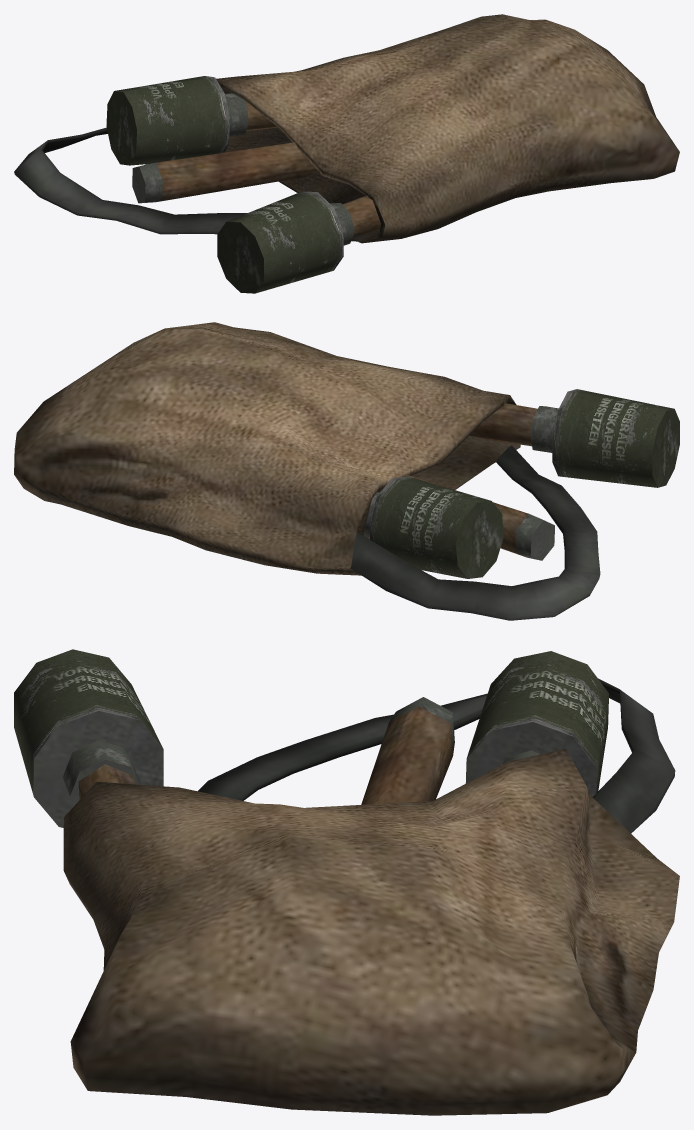
File: german_grenade_bag.glb
3 renders of one model, top to bottom at view 1: azimuth 30°, elevation 25°; view 2: azimuth 150°, elevation 25°; view 3: azimuth 270°, elevation 25°, orthographic. The views are drawn at different scales.
Bounding box in the file's own units: 19.83 × 3.8 × 13.02.
1 material, 1 textured.
